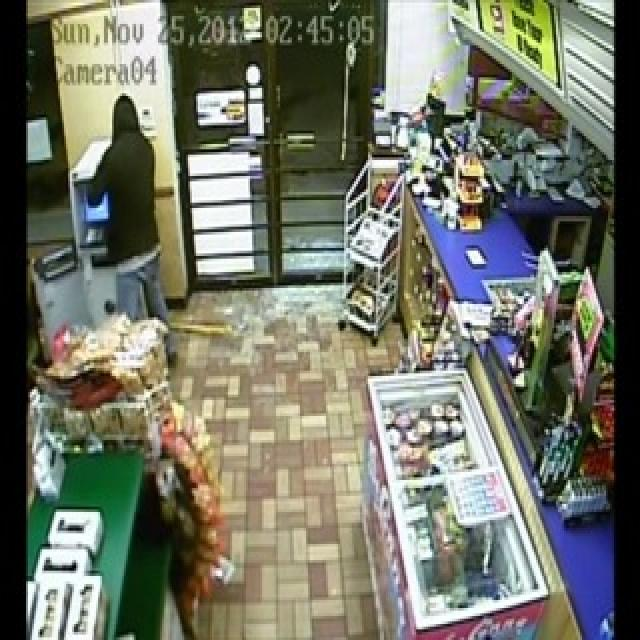thief: (96, 87, 159, 315)
